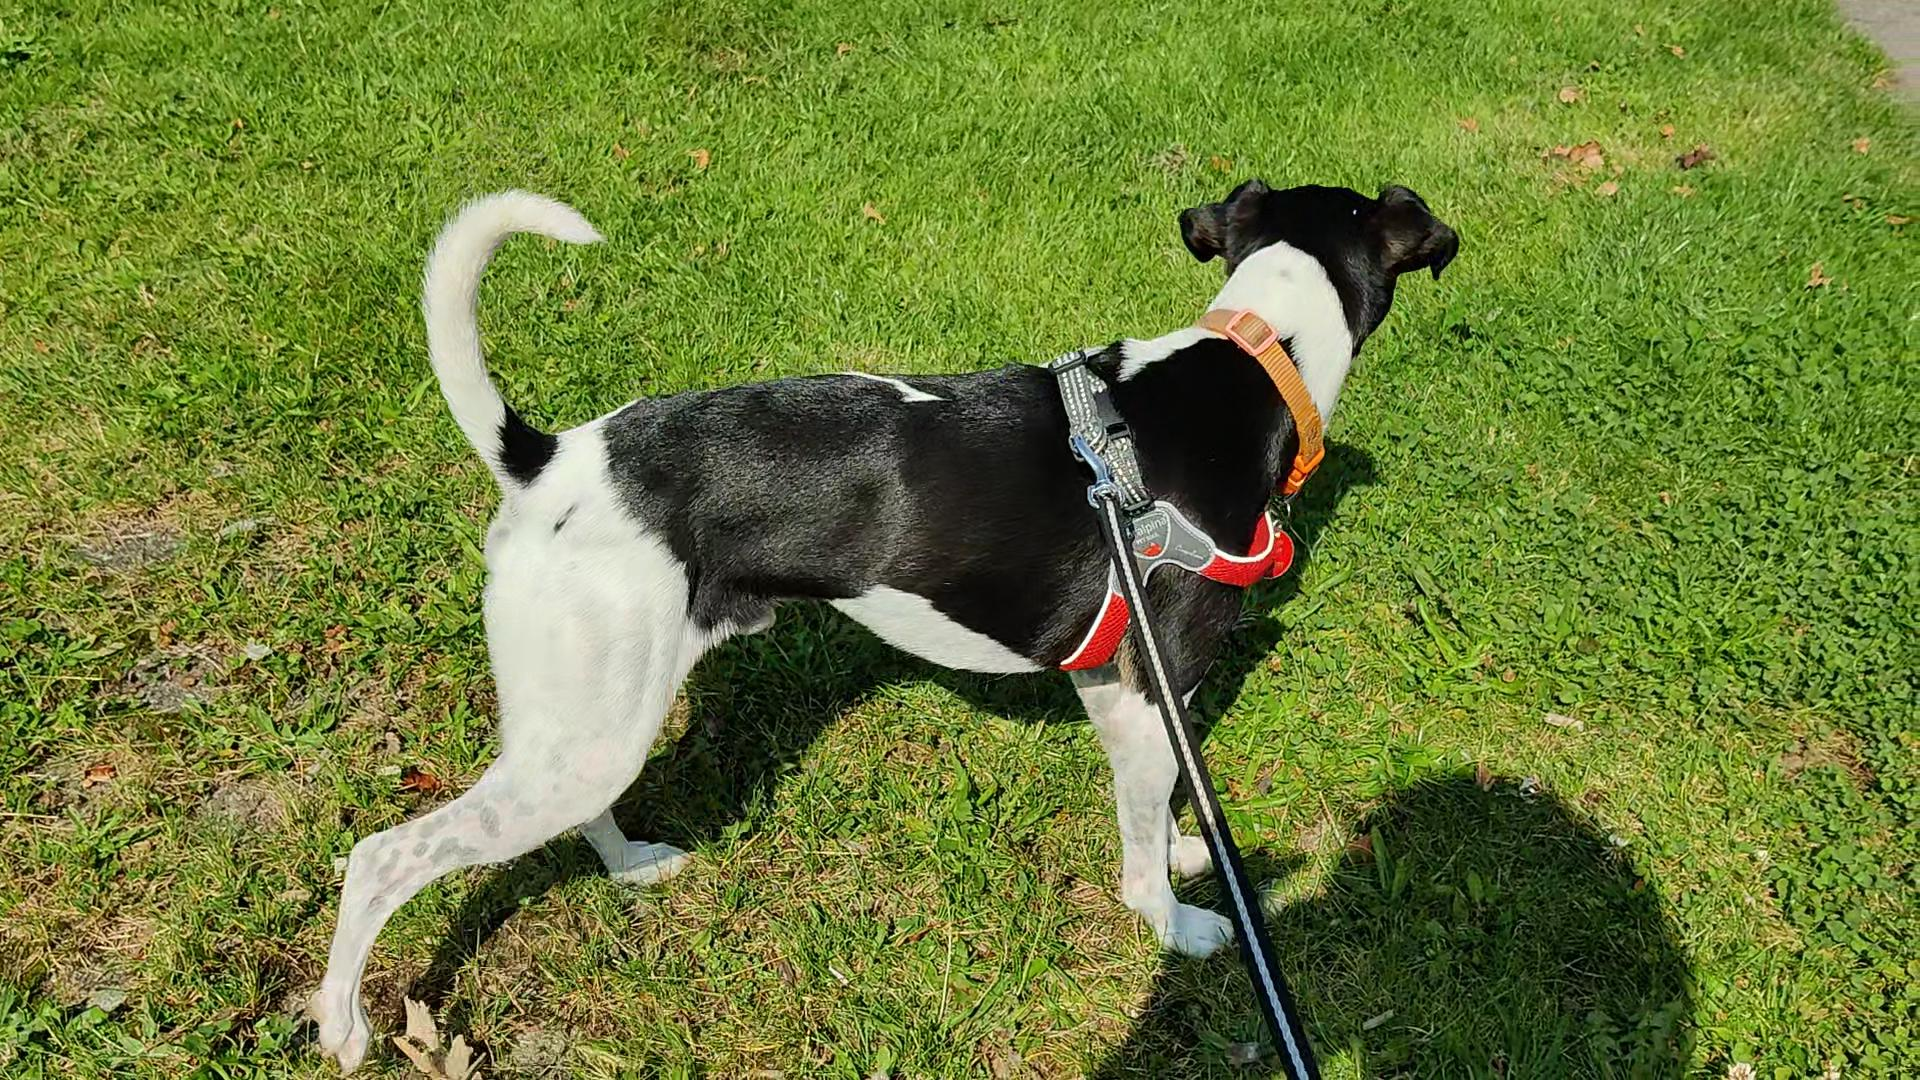Dog: (306, 173, 1466, 1079)
